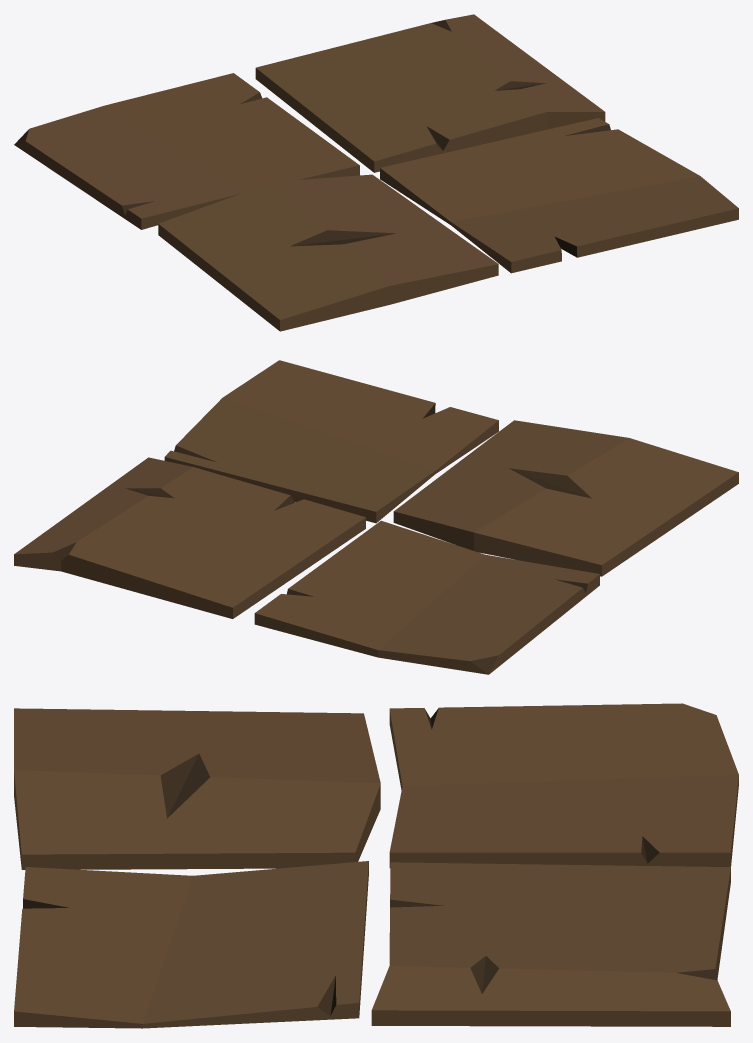
File: Floor_3_Brown.fbx
The picture shows the model from 3 angles, top to bottom: view 1: azimuth 30°, elevation 25°; view 2: azimuth 150°, elevation 25°; view 3: azimuth 270°, elevation 25°; orthographic projection. The views are drawn at different scales.
Visible parts, largest first — view 1: Floor_3_Brown_Part_1, Floor_3_Brown_Part_2; view 2: Floor_3_Brown_Part_1, Floor_3_Brown_Part_2; view 3: Floor_3_Brown_Part_1, Floor_3_Brown_Part_2.
Part boxes in pixels (x1,y1,x2,y2): Floor_3_Brown_Part_1: [14, 14, 738, 331]; Floor_3_Brown_Part_2: [14, 20, 610, 257]; Floor_3_Brown_Part_1: [14, 360, 738, 674]; Floor_3_Brown_Part_2: [53, 403, 591, 674]; Floor_3_Brown_Part_1: [14, 703, 738, 1028]; Floor_3_Brown_Part_2: [23, 708, 717, 1015].
Bounding box in the file's own units: 436 × 18.82 × 425.
